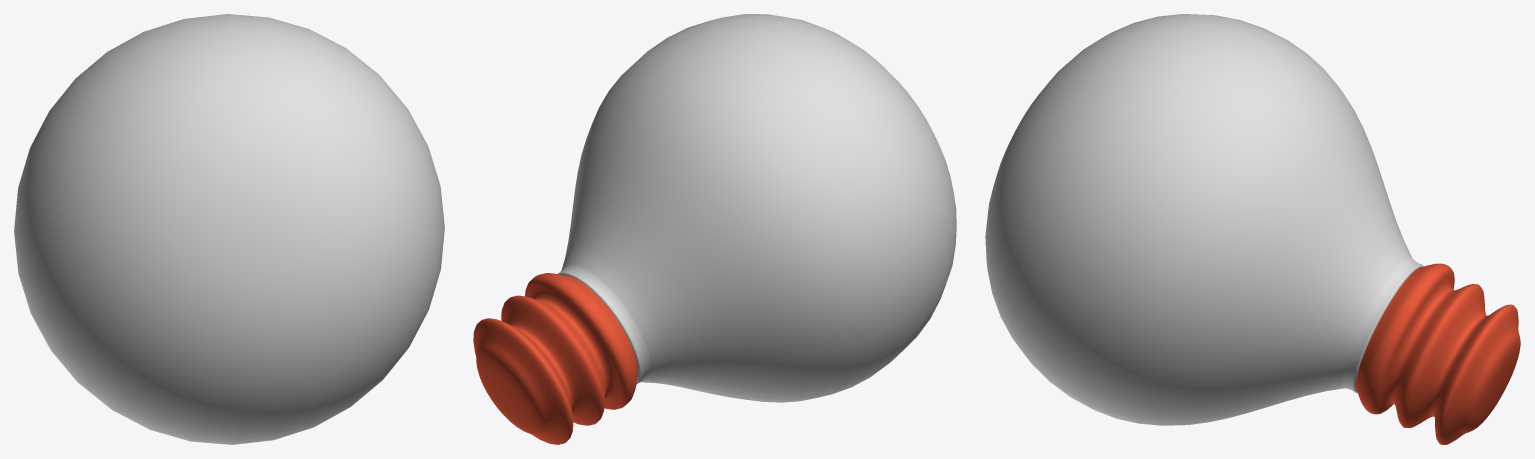
File: bulb.glb
3 views of the same model, side by side, from view 1: azimuth 30°, elevation 25°; view 2: azimuth 150°, elevation 25°; view 3: azimuth 270°, elevation 25° (orthographic). The views are drawn at different scales.
Parts seen in each view (by area): view 1: Bulb; view 2: Bulb, Bulb Copper; view 3: Bulb, Bulb Copper.
Part boxes in pixels (x1=…): Bulb: x1=14, y1=14, x2=444, y2=444; Bulb: x1=557, y1=14, x2=956, y2=402; Bulb Copper: x1=473, y1=273, x2=637, y2=444; Bulb: x1=985, y1=14, x2=1423, y2=425; Bulb Copper: x1=1355, y1=263, x2=1520, y2=444.
Bounding box in the file's own units: 0.0986 × 0.0988 × 0.1272.
